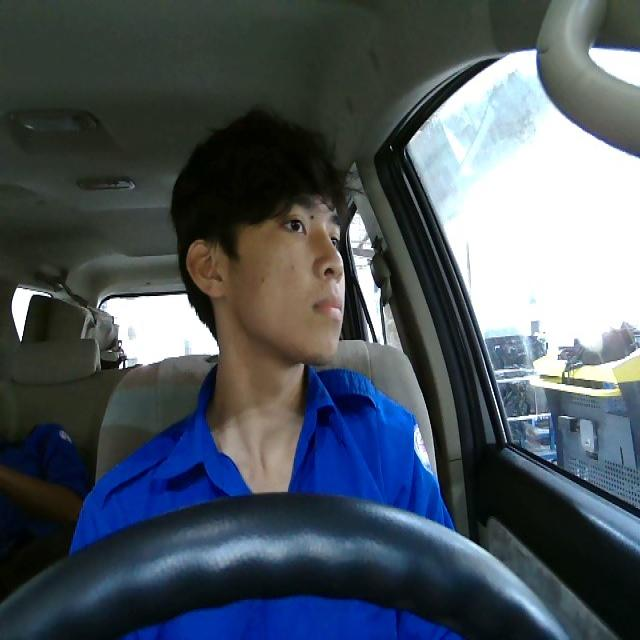seeing_right: (182, 185, 347, 363)
